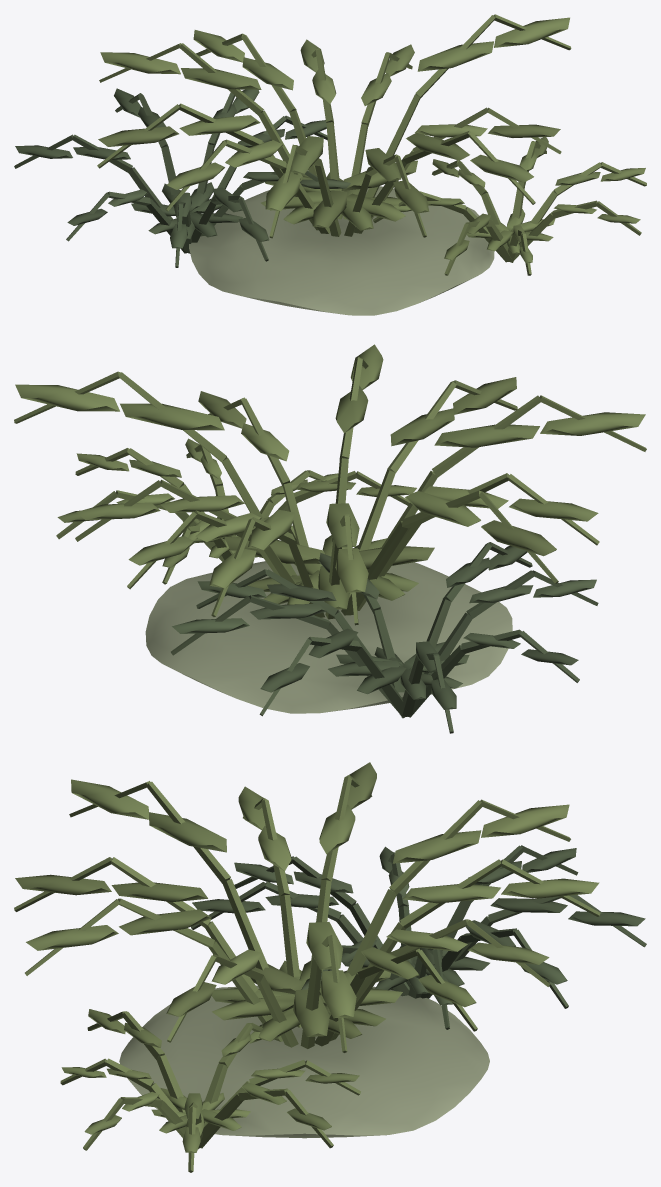
File: cave_fern_b.glb
3 views of the same model, one above another, from view 1: azimuth 30°, elevation 25°; view 2: azimuth 150°, elevation 25°; view 3: azimuth 270°, elevation 25° (orthographic). The views are drawn at different scales.
Parts seen in each view (by area): view 1: Surface; view 2: Surface; view 3: Surface.
Boxes of the visible parts, x1,y1,x2,y2 form: Surface: (14, 14, 646, 315); Surface: (14, 344, 646, 733); Surface: (14, 762, 646, 1172).
Size of the model in its own units: 3.23 by 1.28 by 2.93.
